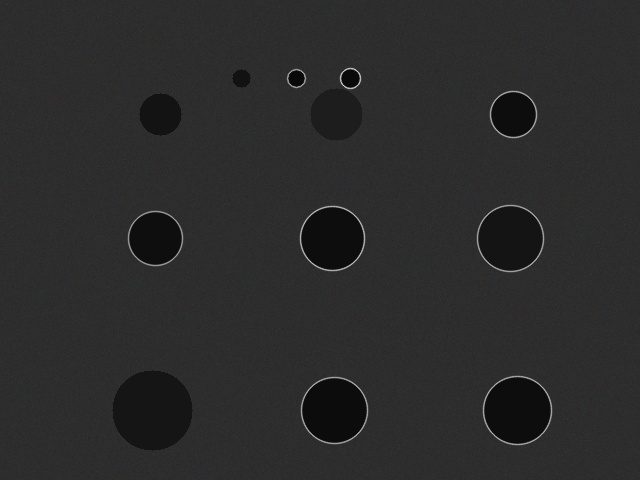hole: (112, 370, 192, 450), (483, 376, 551, 444), (477, 205, 543, 271), (301, 377, 367, 443), (300, 206, 364, 270), (128, 211, 182, 265), (310, 88, 362, 140), (490, 91, 536, 137), (139, 93, 181, 135), (340, 68, 360, 88), (232, 69, 250, 87), (287, 69, 305, 87)
